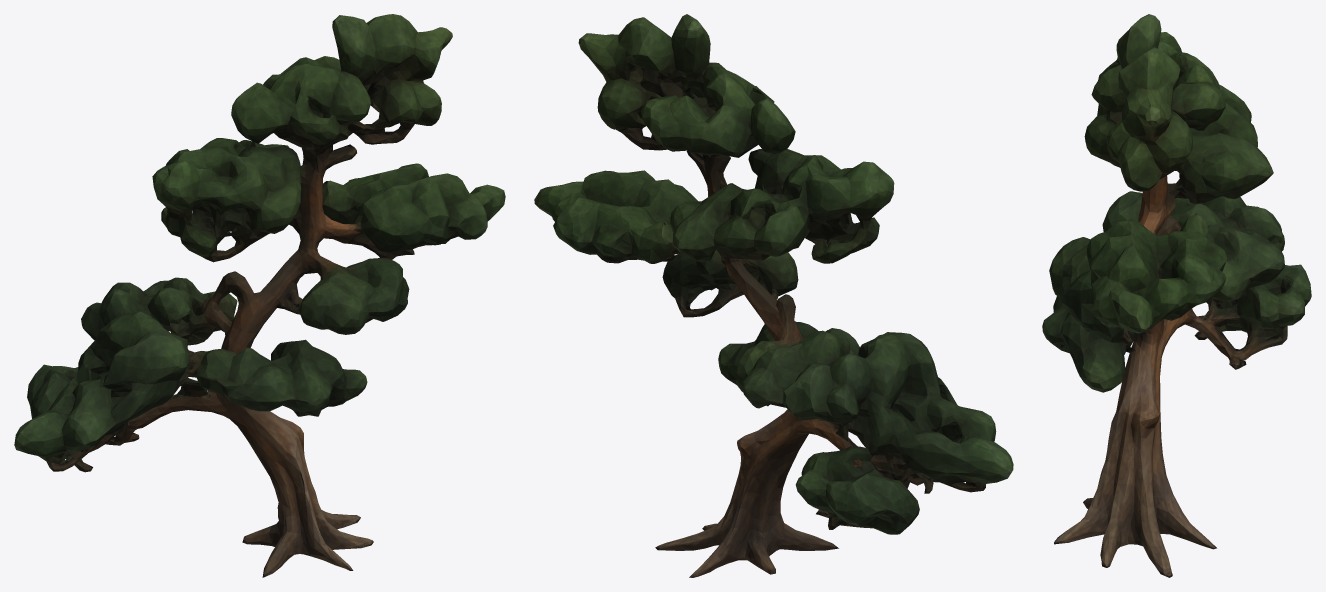
Rendered from pine.glb.
The picture shows the model from 3 angles, left to right: view 1: azimuth 30°, elevation 25°; view 2: azimuth 150°, elevation 25°; view 3: azimuth 270°, elevation 25°; orthographic projection. The views are drawn at different scales.
Visible parts, largest first — view 1: world; view 2: world; view 3: world.
Part boxes in pixels (x1=…): world: x1=14, y1=14, x2=505, y2=577; world: x1=534, y1=14, x2=1013, y2=577; world: x1=1042, y1=14, x2=1311, y2=577.
Size of the model in its own units: 0.9711 by 1 by 0.4448.
Materials: 1 (1 with a texture image).
